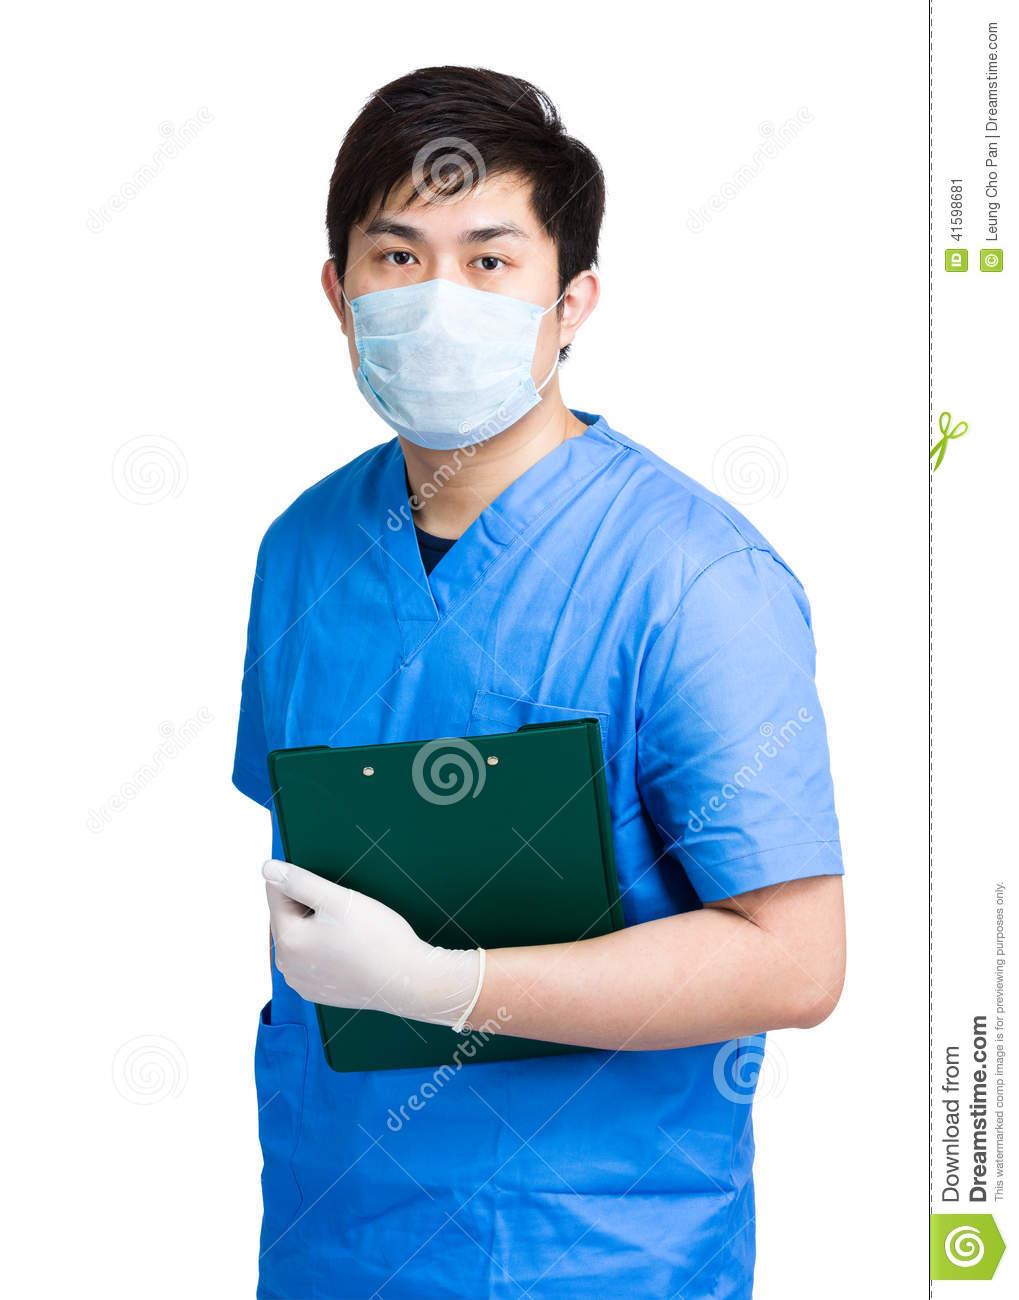mask: (345, 281, 549, 453)
